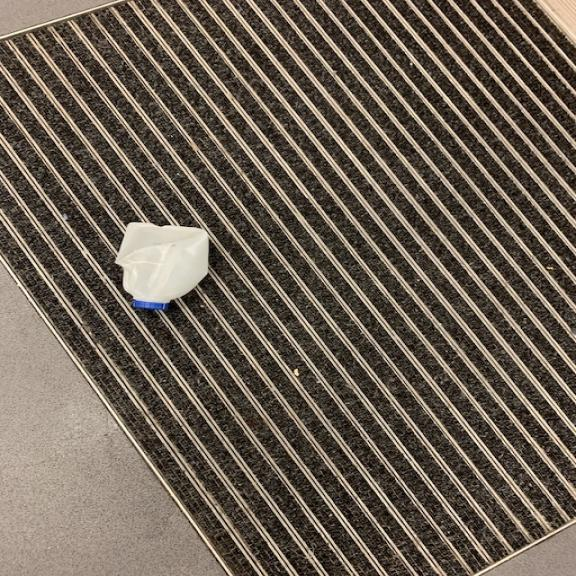Plastik: (117, 220, 214, 316)
